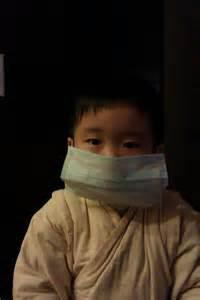OK: (69, 115, 165, 204)
